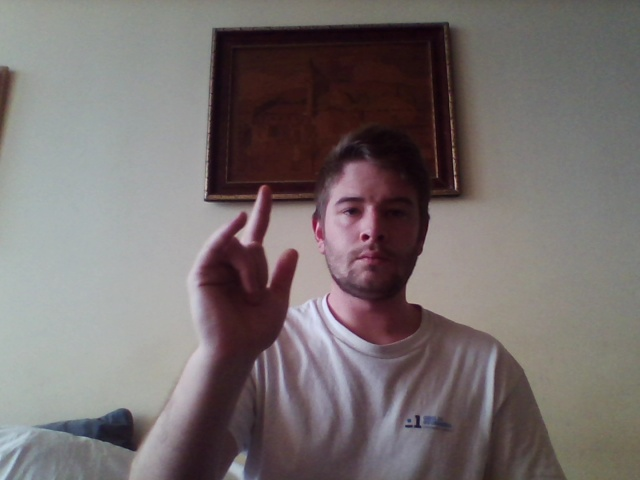volimte: (185, 183, 298, 358)
